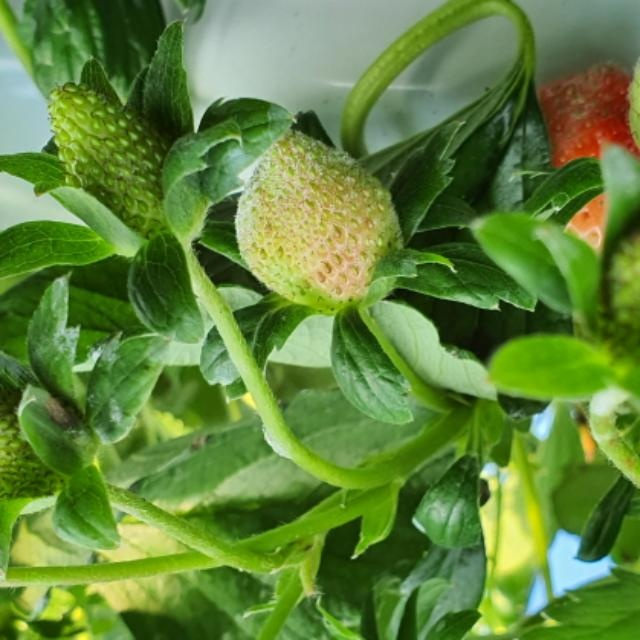Powdery Mildew Fruit: (234, 127, 405, 309)
